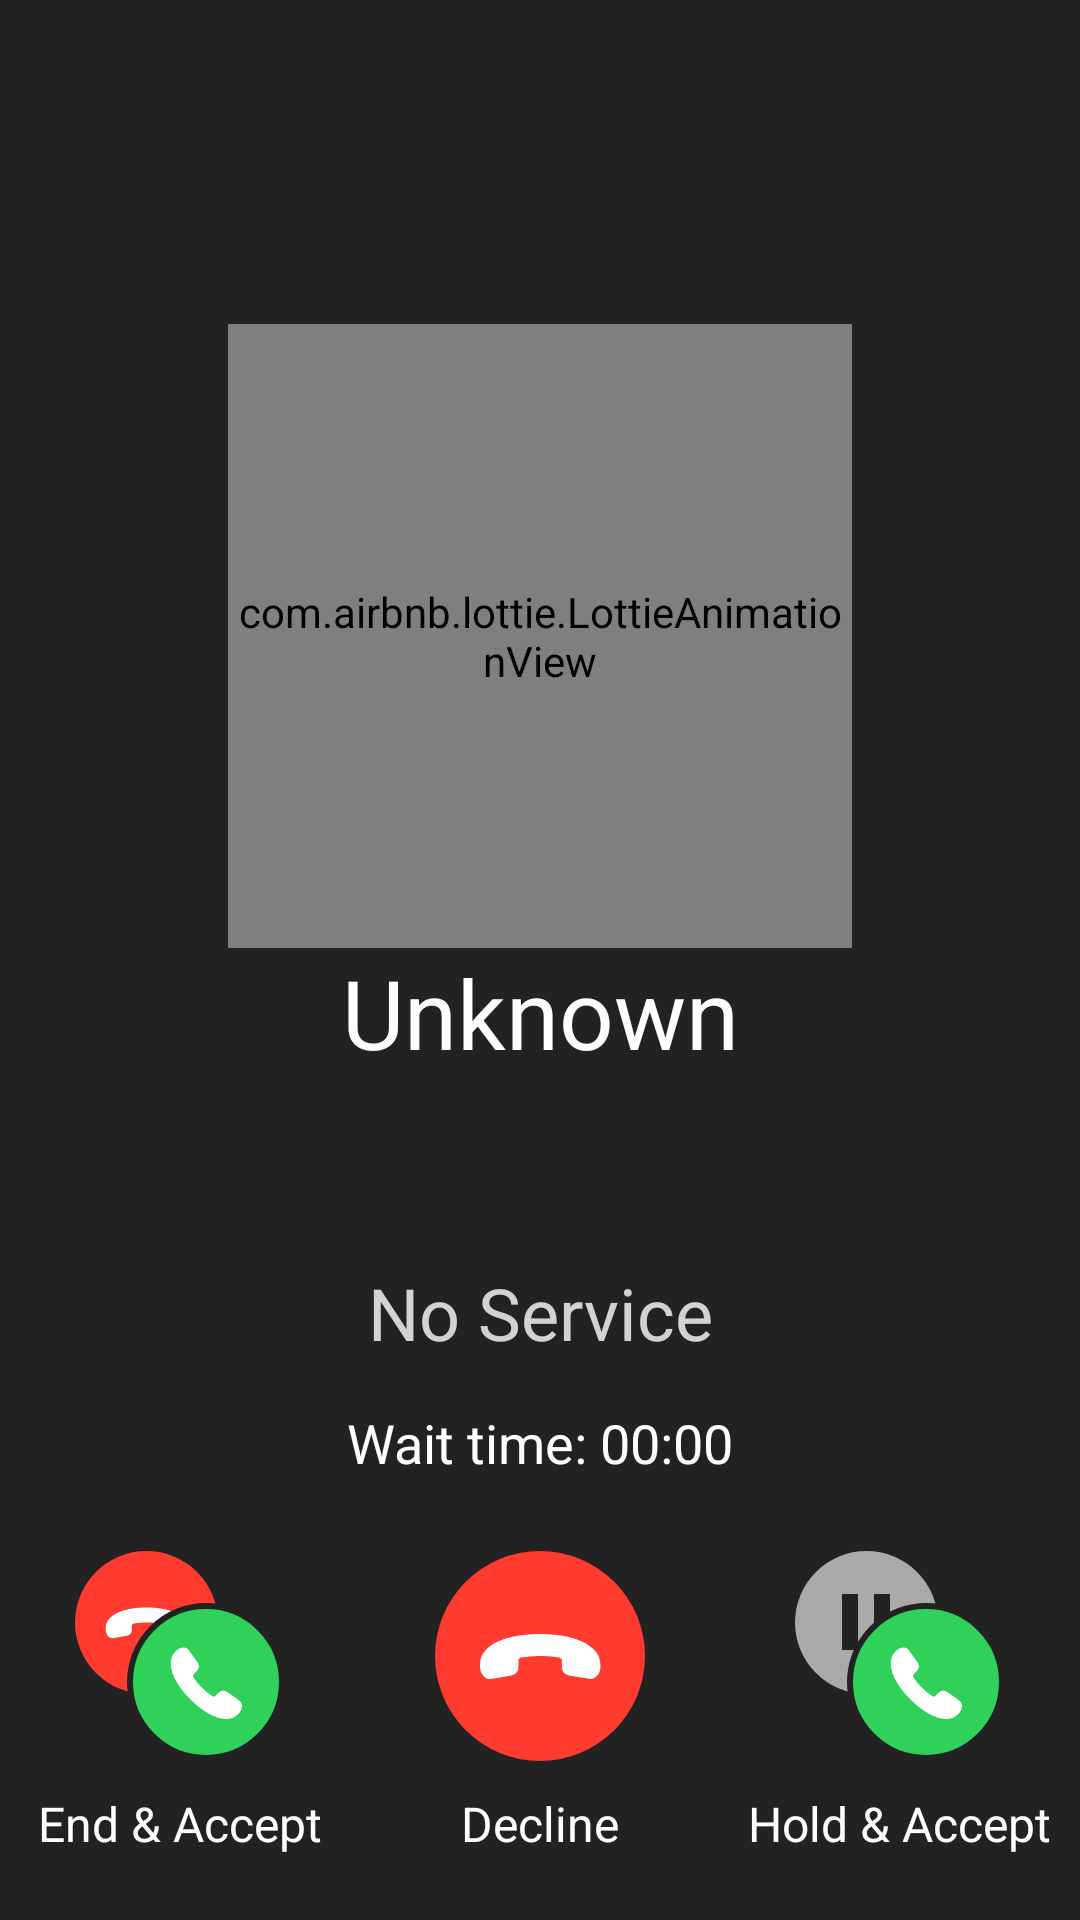

Named icons in this screenshot (1080 × 1920) and their bounding boxes, BBox(x1, y1, x2, y2):
answer: BBox(133, 1609, 279, 1755), BBox(853, 1609, 999, 1755)
